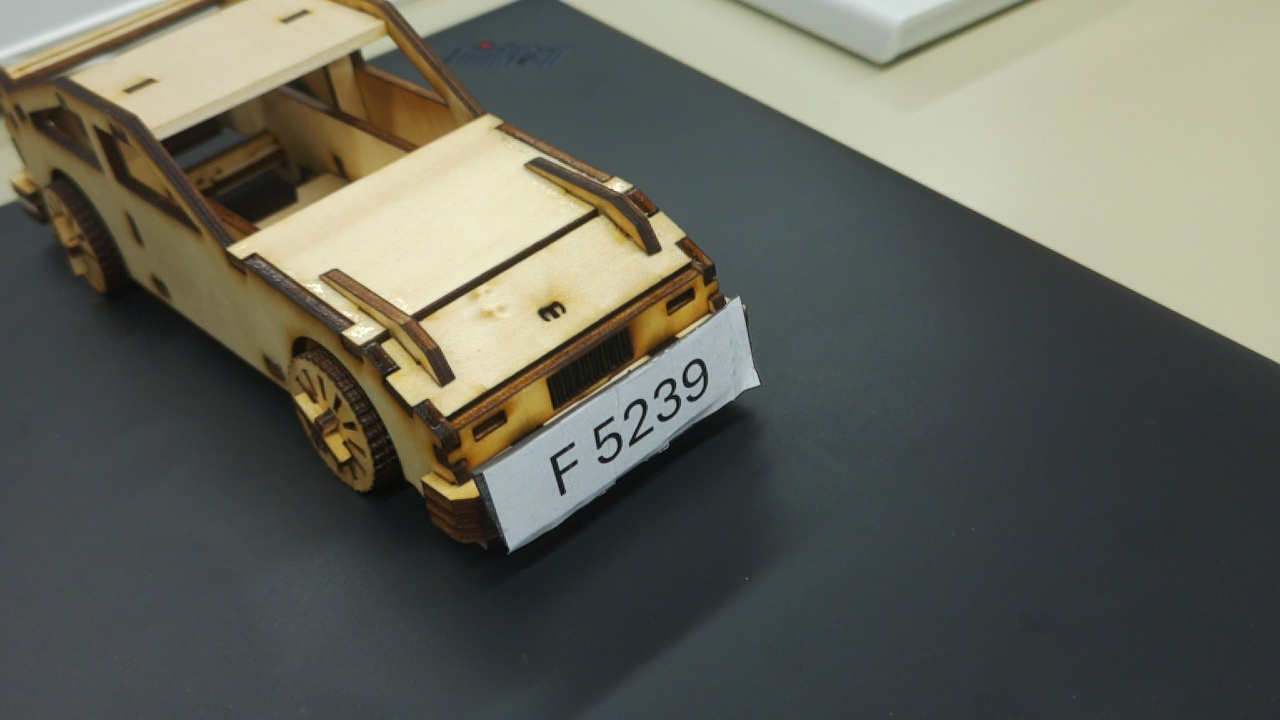license_plate: (454, 293, 768, 572)
